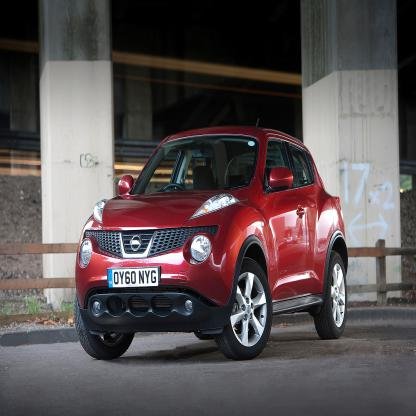Vehicle: (72, 124, 350, 361)
